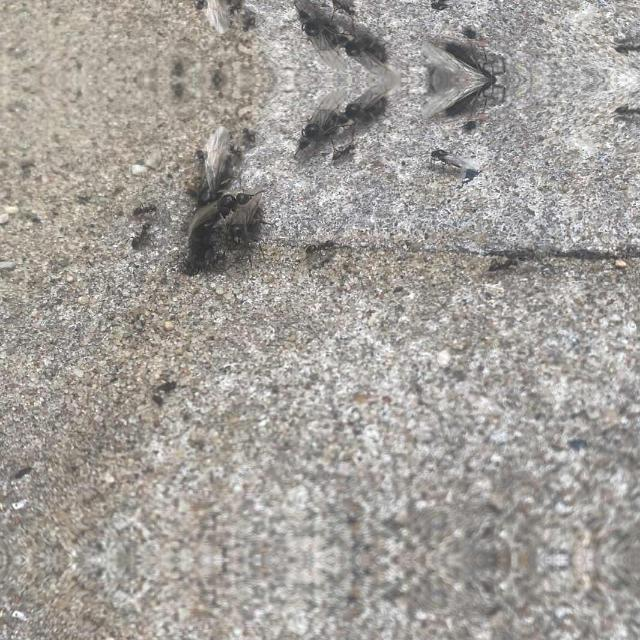Lasius: (334, 78, 402, 134), (334, 24, 402, 80), (286, 86, 340, 156), (286, 2, 340, 72), (190, 180, 262, 228), (188, 122, 232, 196), (426, 79, 498, 119), (426, 39, 498, 79), (224, 189, 268, 247), (188, 0, 230, 36), (300, 228, 344, 262), (426, 145, 482, 171), (130, 212, 160, 250), (320, 140, 356, 170), (131, 195, 165, 217), (486, 252, 516, 276), (425, 0, 480, 12), (319, 0, 354, 16), (610, 97, 640, 115), (610, 43, 640, 61), (239, 124, 263, 146), (239, 12, 263, 34)
